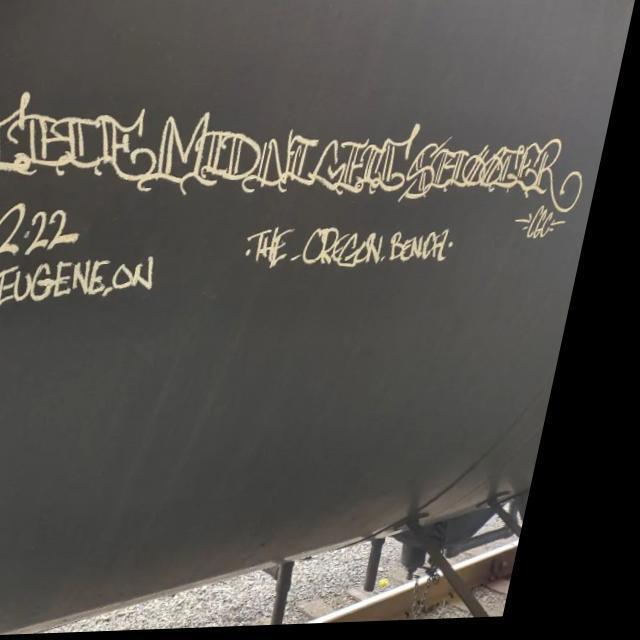-: (0, 59, 619, 241), (0, 192, 186, 338), (243, 215, 474, 285), (520, 212, 581, 250)
